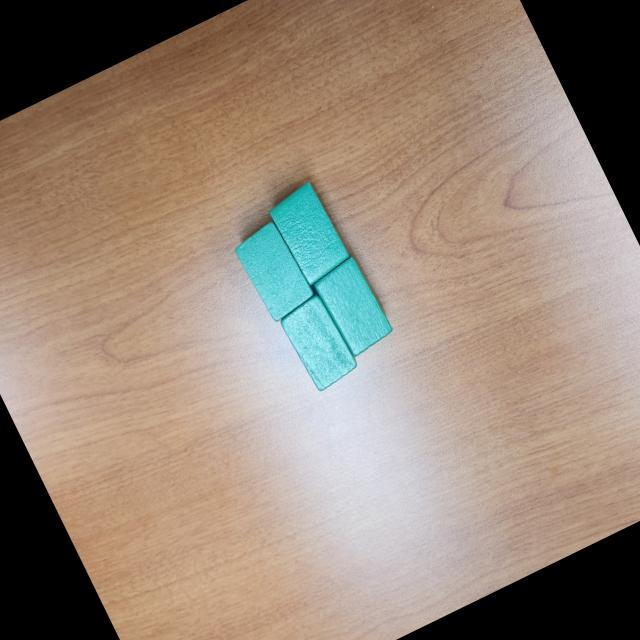green: (264, 178, 354, 288), (228, 215, 318, 324), (309, 254, 397, 361), (274, 290, 362, 396)
